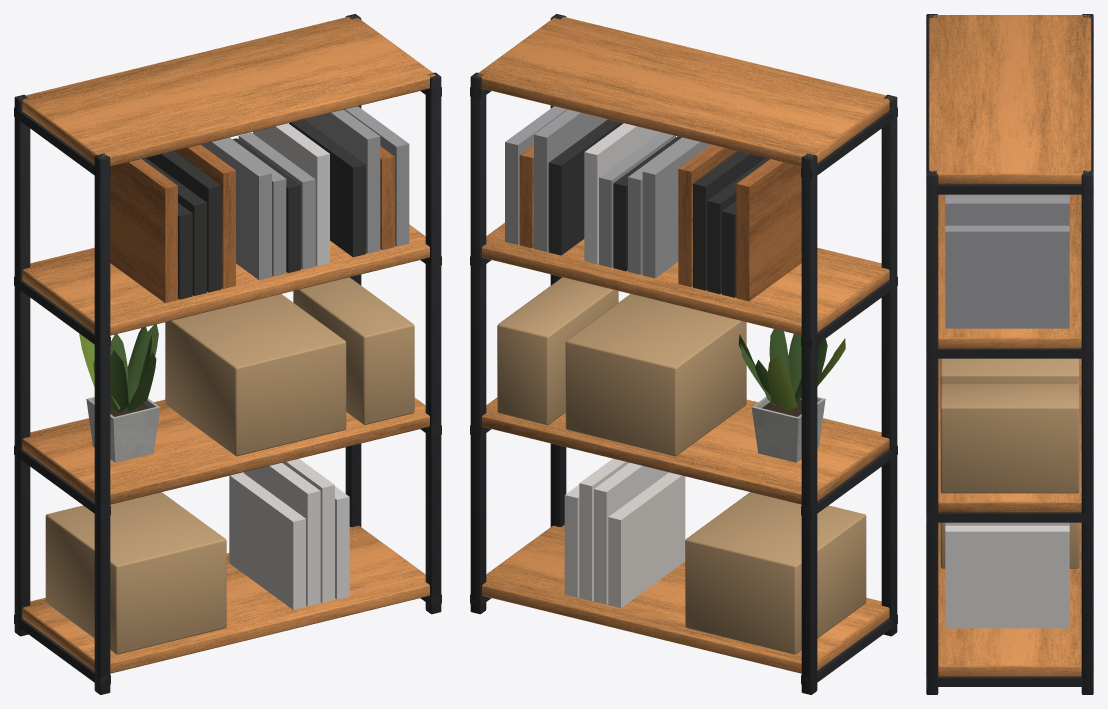
The model's file is storage.open-shelf-medium.glb.
3 views of the same model, side by side, from view 1: azimuth 30°, elevation 25°; view 2: azimuth 150°, elevation 25°; view 3: azimuth 270°, elevation 25° (orthographic). The views are drawn at different scales.
Parts seen in each view (by area): view 1: storage.open-shelf-medium.001; view 2: storage.open-shelf-medium.001; view 3: storage.open-shelf-medium.001.
Boxes of the visible parts, bbox=[...] form: storage.open-shelf-medium.001: bbox=[14, 14, 441, 694]; storage.open-shelf-medium.001: bbox=[470, 14, 897, 694]; storage.open-shelf-medium.001: bbox=[926, 14, 1093, 694].
Bounding box in the file's own units: 0.8 × 1.2 × 0.35.
12 materials, 3 textured.
